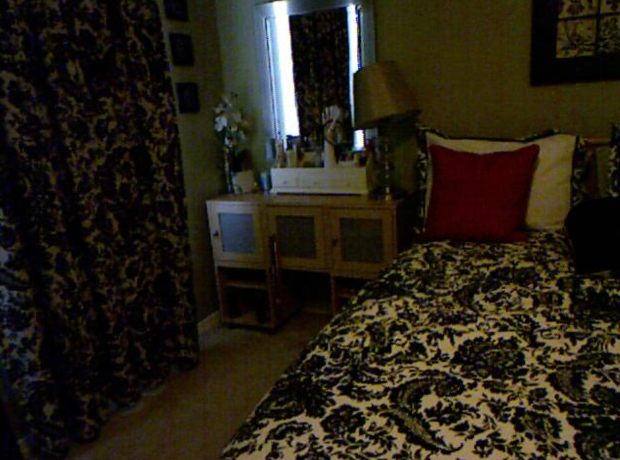cabinet: (208, 194, 391, 329)
cabinetDoor: (328, 210, 379, 273), (267, 206, 319, 261), (211, 205, 256, 260)
window: (272, 15, 369, 142)
